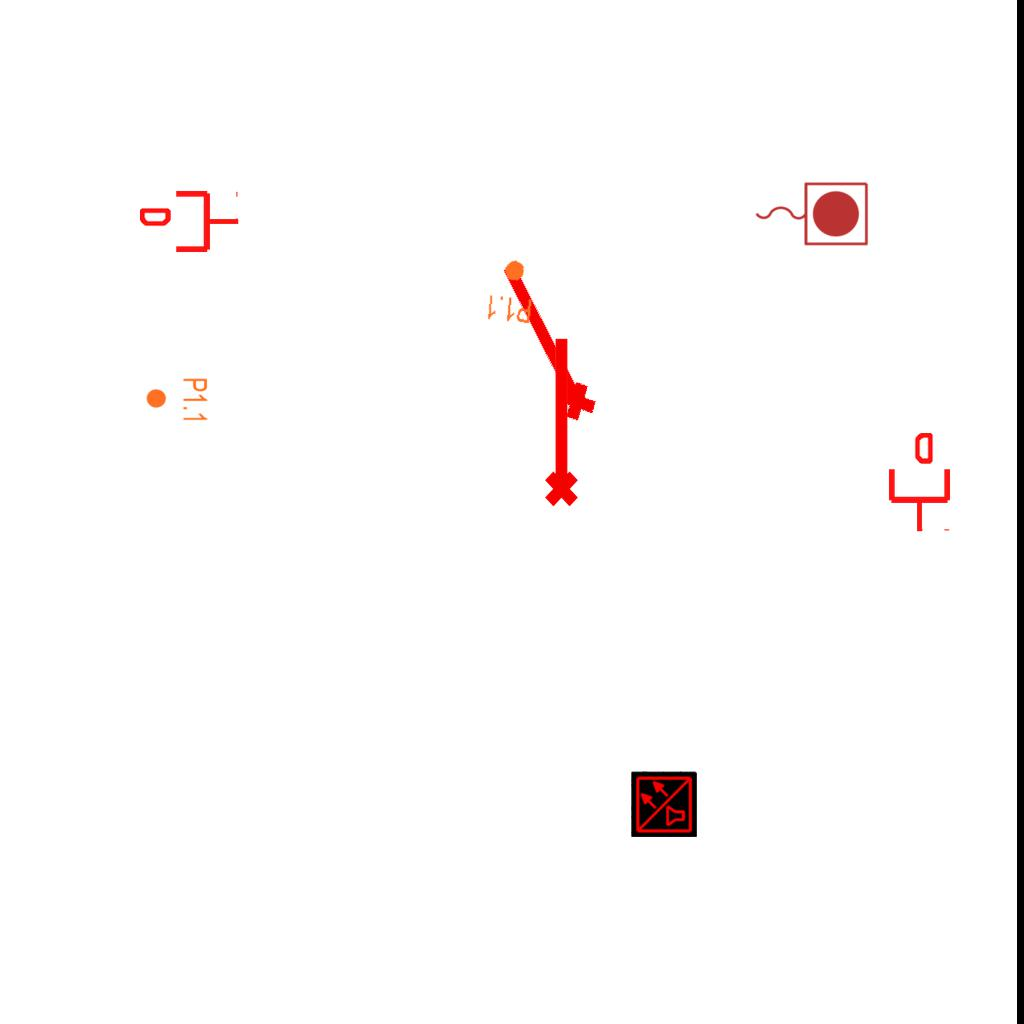ASR_Ansaugoeffnung: (483, 253, 605, 431), (536, 333, 582, 509)
Datenanschluss_einfach: (140, 187, 240, 256), (885, 433, 954, 533)
Downlight_LED_Einbauleuchten_Flur: (484, 256, 538, 326), (145, 377, 209, 423)
OKW_Multisensormelder_(Kombination_optischer_Rauch-Kahlenmonoxid_Waerme-Melder): (631, 771, 697, 837)
Zugtaster: (750, 177, 872, 249)
